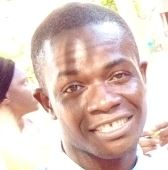without_facemask: (57, 100, 156, 157)
